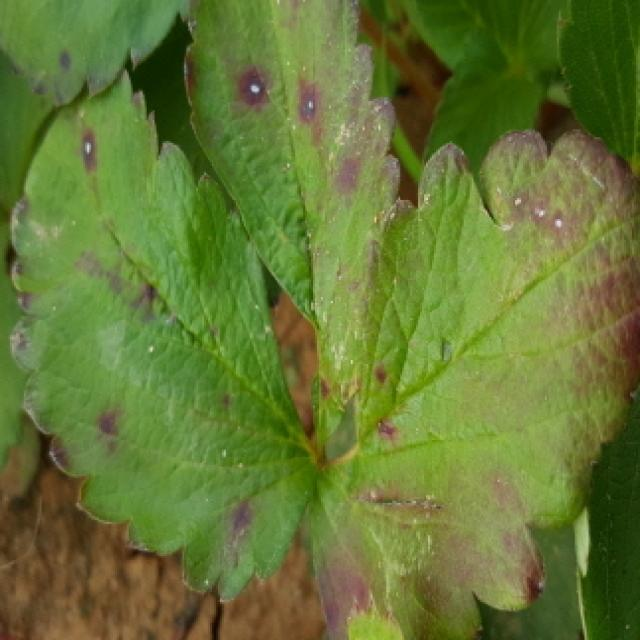Leaf Spot: (302, 125, 640, 640), (7, 64, 321, 603), (182, 0, 401, 451), (573, 392, 640, 640)
